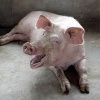heo: (21, 13, 85, 71)
